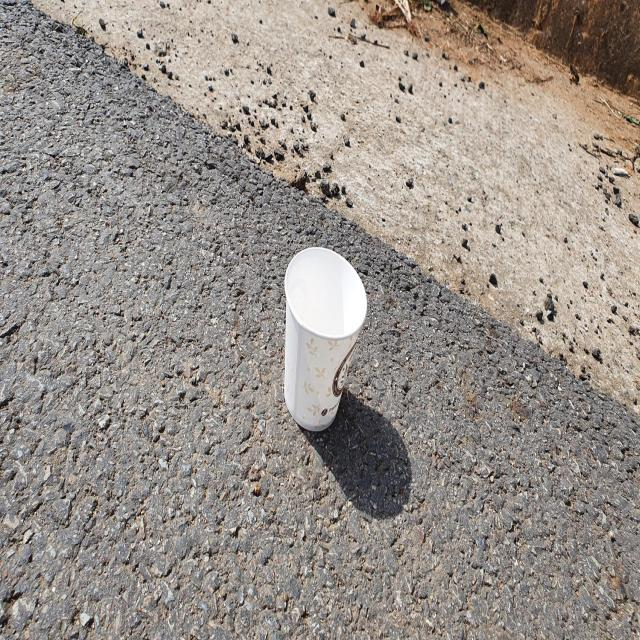paperpack: (284, 246, 367, 431)
